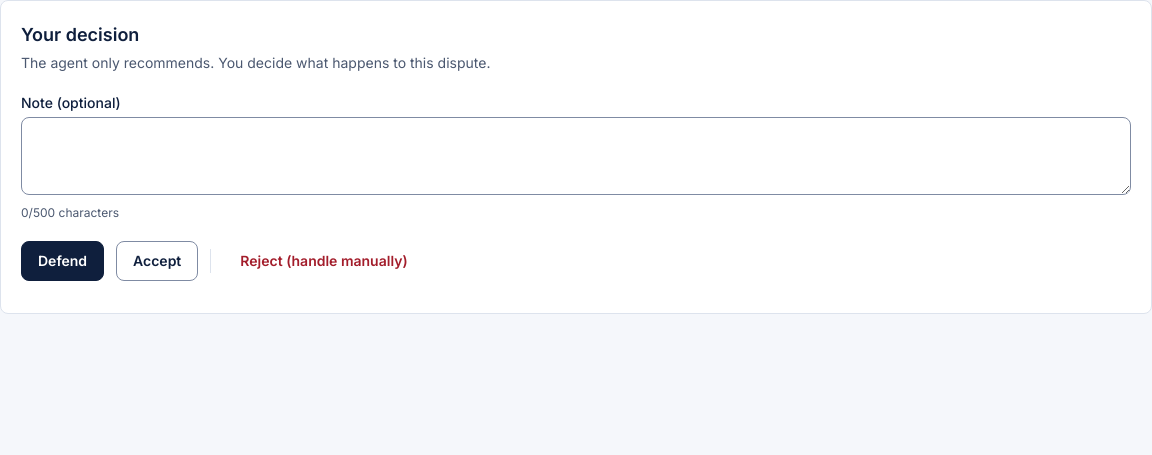
Test case: confirming Reject and Accept › Reject does not submit; it shows the consequence with Confirm and Cancel
Click the button "Reject (handle manually)" at (324, 261), box [223,241,425,281]
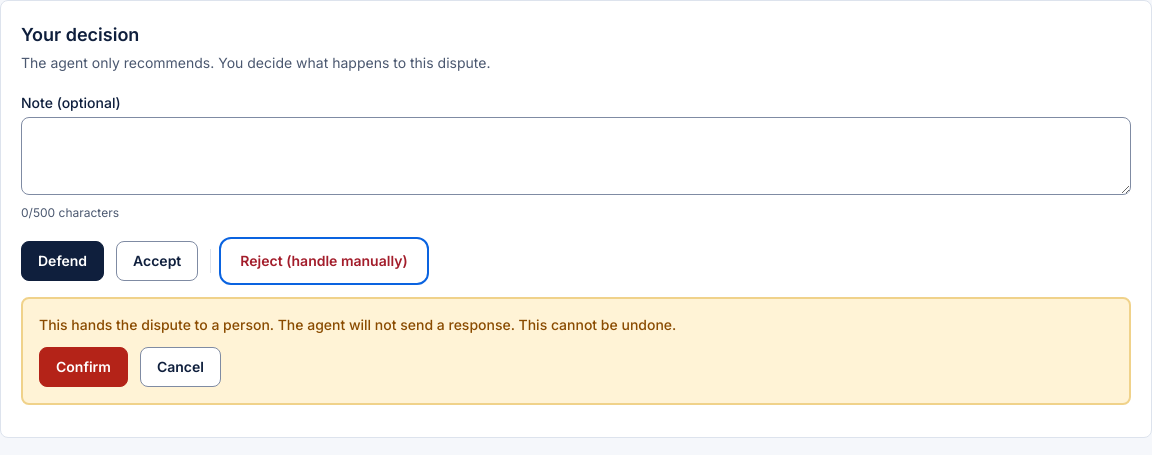
Check: the text "This hands the dispute to a person. The agent will not send a response. This cannot be undone." is shown, box [39,316,676,333]
Check: the button "Confirm" is enabled, box [39,347,128,387]
Check: the button "Cancel" is enabled, box [140,347,221,387]
